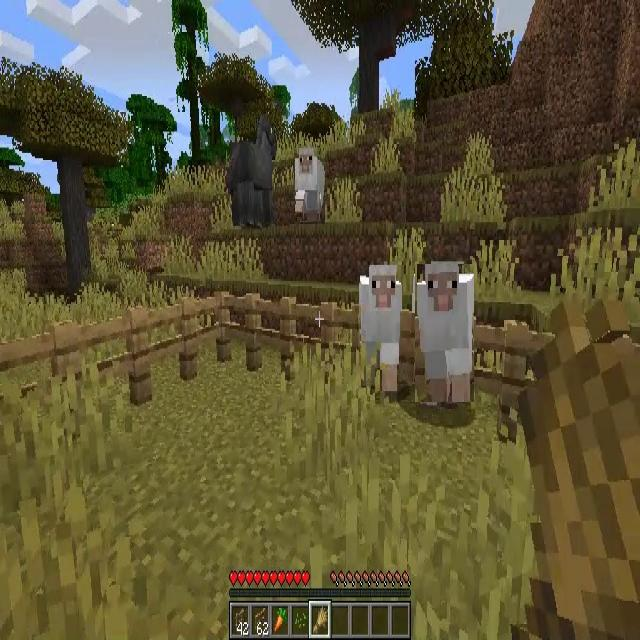sheep: (415, 264, 474, 402), (357, 264, 401, 396), (294, 148, 325, 221)
